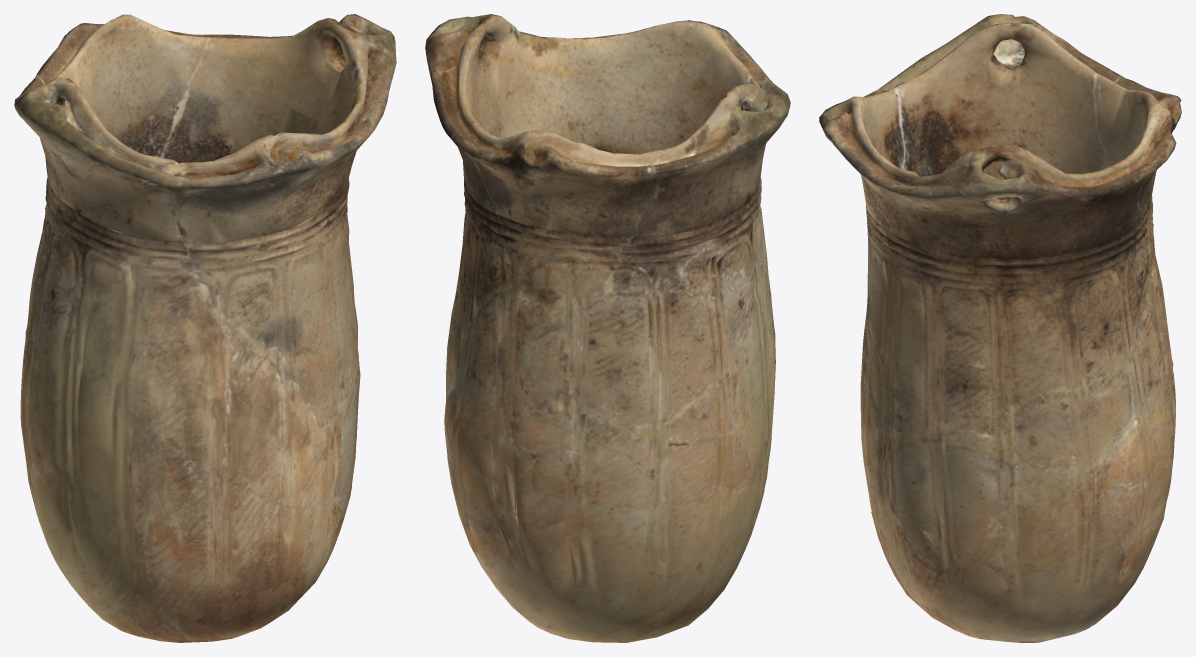
3 renders of one model, left to right at view 1: azimuth 30°, elevation 25°; view 2: azimuth 150°, elevation 25°; view 3: azimuth 270°, elevation 25°, orthographic. The views are drawn at different scales.
Visible parts, largest first — view 1: NM0041_low; view 2: NM0041_low; view 3: NM0041_low.
Boxes of the visible parts, x1,y1,x2,y2 form: NM0041_low: (14, 14, 396, 642); NM0041_low: (425, 14, 790, 642); NM0041_low: (819, 14, 1181, 642).
Size of the model in its own units: 197 by 293 by 182.
1 material, 1 textured.
